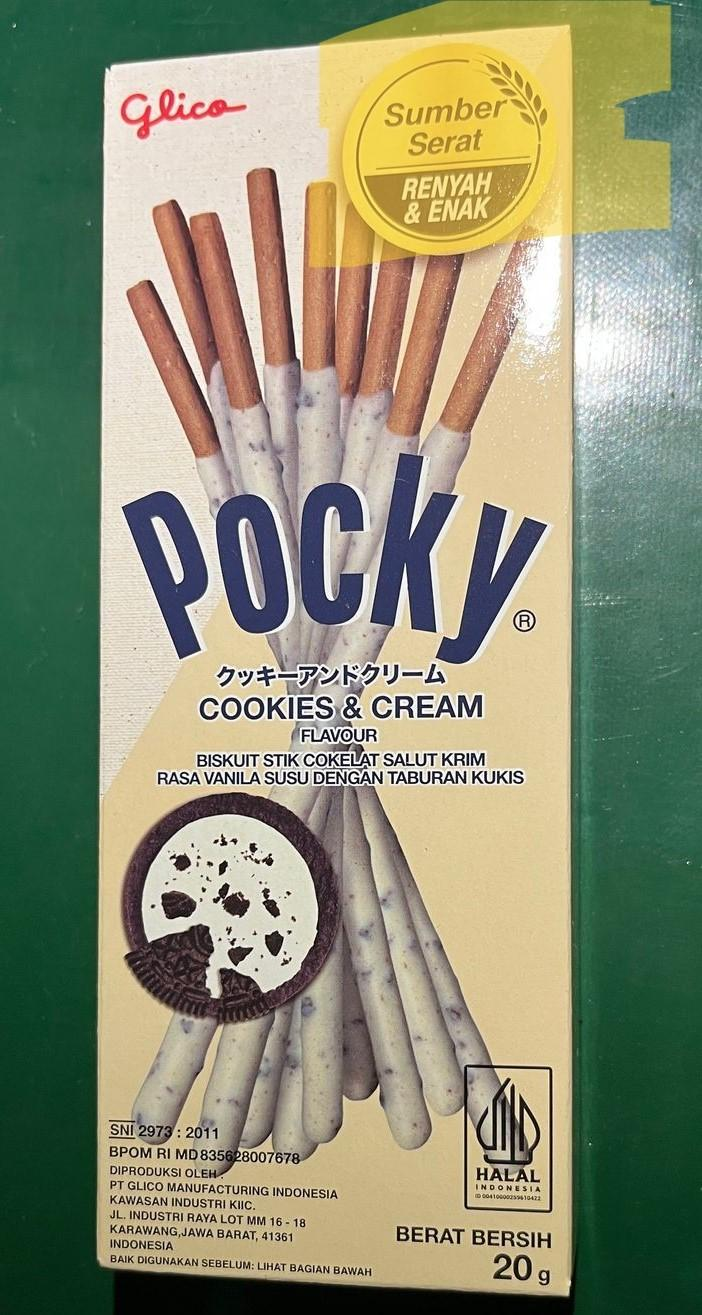Kertas: (100, 27, 573, 1303)
